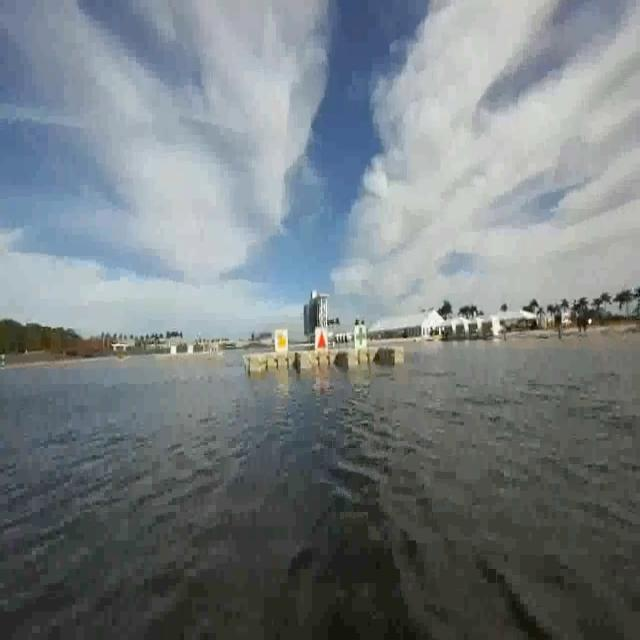blue-cross: (356, 323, 369, 351)
red-dot: (317, 326, 327, 350)
yellow-duck: (274, 329, 291, 354)
